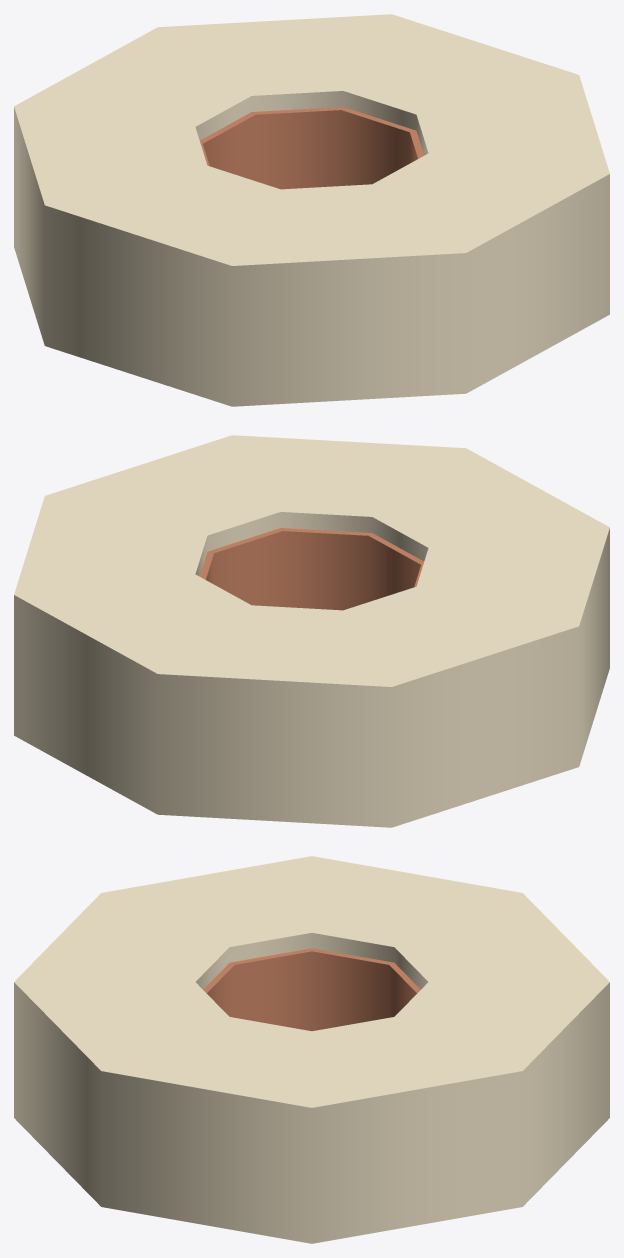
File: misc_tape_003.fbx
The picture shows the model from 3 angles, top to bottom: view 1: azimuth 30°, elevation 25°; view 2: azimuth 150°, elevation 25°; view 3: azimuth 270°, elevation 25°; orthographic projection. The views are drawn at different scales.
Visible parts, largest first — view 1: misc_tape.003; view 2: misc_tape.003; view 3: misc_tape.003.
Part boxes in pixels (box(x1,y1,x2,y2)): misc_tape.003: box(14, 14, 609, 406); misc_tape.003: box(14, 435, 609, 827); misc_tape.003: box(14, 856, 609, 1243).
Bounding box in the file's own units: 795 × 200 × 795.
1 material, 1 textured.
